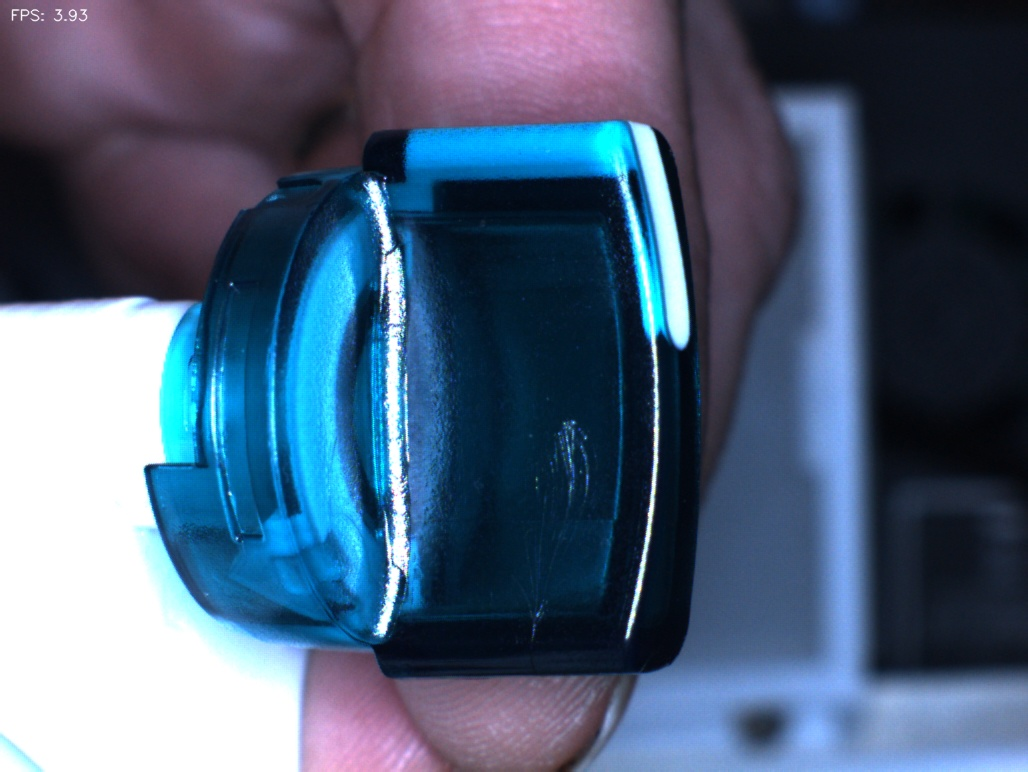Givrage: (501, 413, 601, 643)
